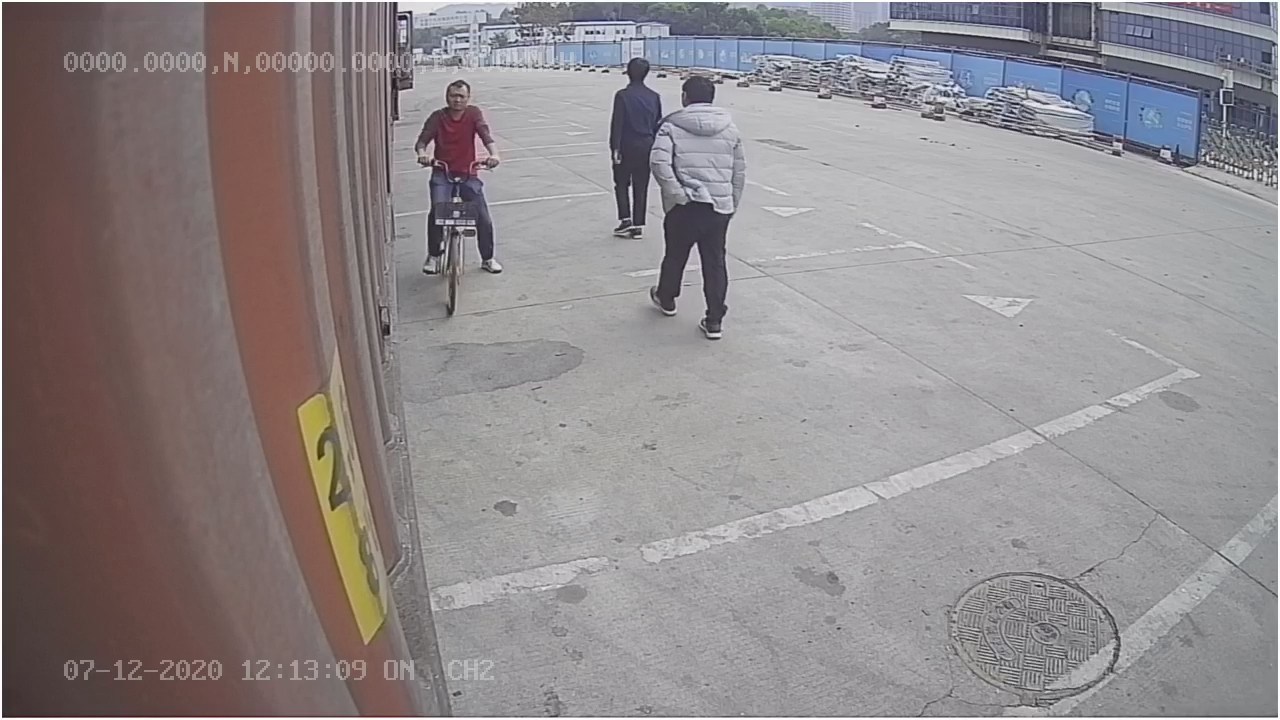person: (650, 73, 748, 340)
